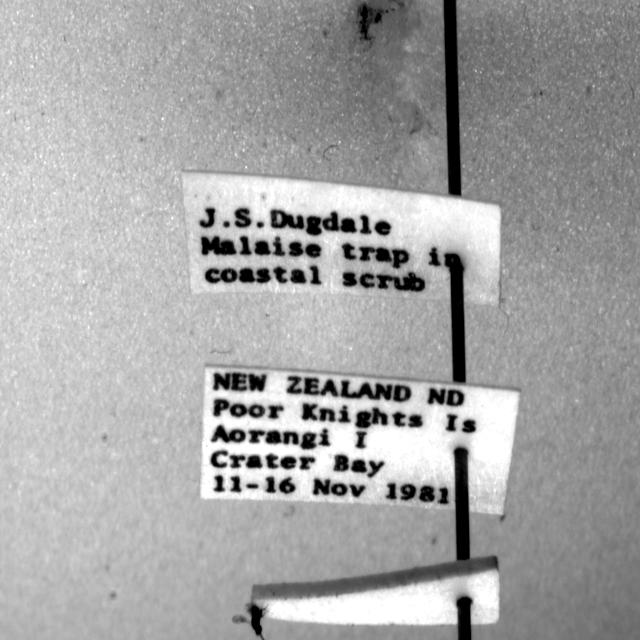typed_label: (200, 366, 520, 516), (182, 171, 501, 306)
